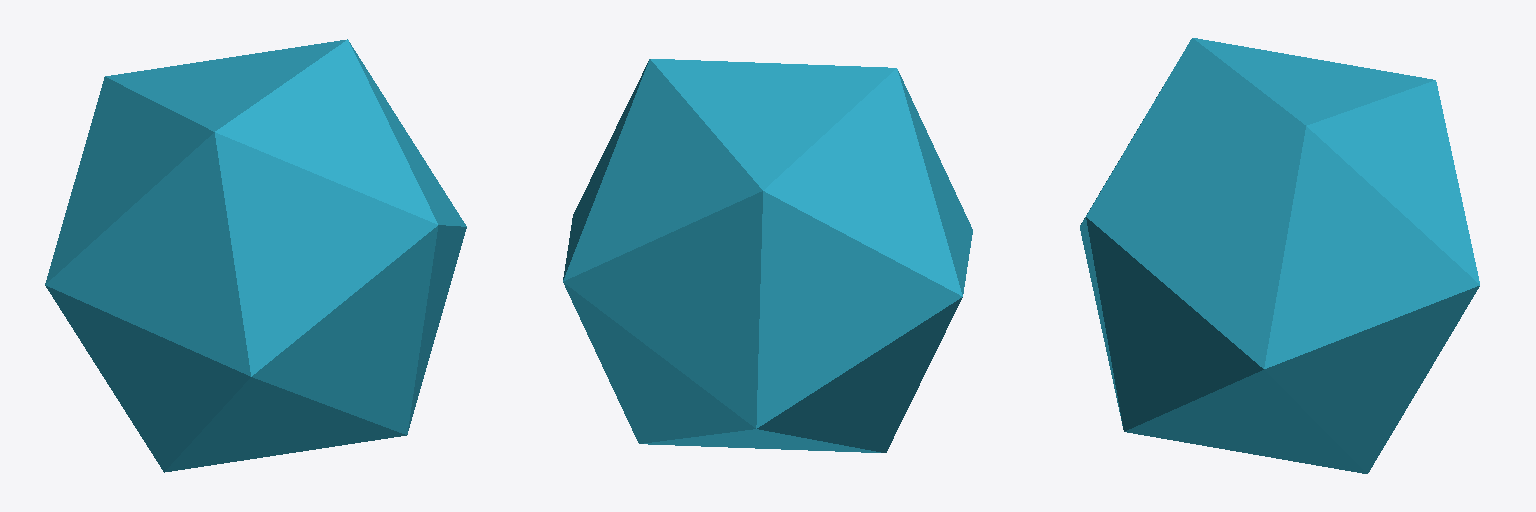
File: globe.obj
The picture shows the model from 3 angles: view 1: azimuth 30°, elevation 25°; view 2: azimuth 150°, elevation 25°; view 3: azimuth 270°, elevation 25°; orthographic projection.
Visible parts, largest first — view 1: Icosphere.001; view 2: Icosphere.001; view 3: Icosphere.001.
Boxes of the visible parts, x1=… form: Icosphere.001: x1=45, y1=39, x2=466, y2=472; Icosphere.001: x1=563, y1=59, x2=972, y2=452; Icosphere.001: x1=1080, y1=38, x2=1479, y2=473.
Size of the model in its own units: 0.9504 by 0.8115 by 0.8128.